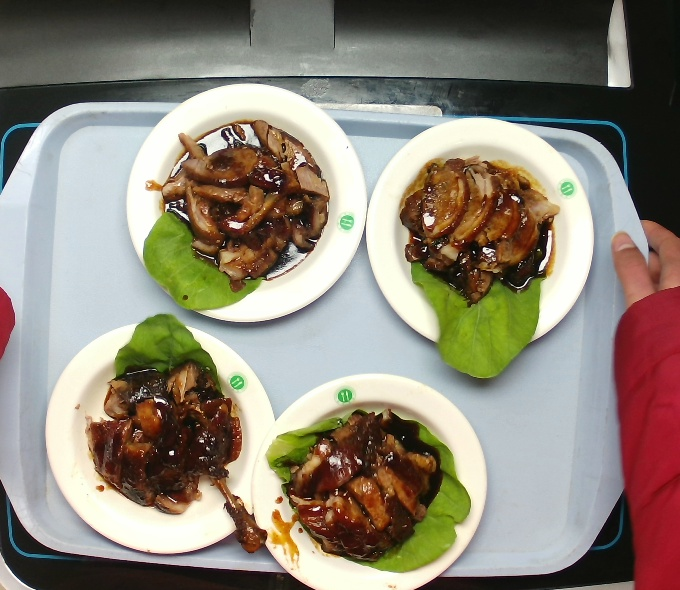wcq-MiZhiYa: (244, 403, 474, 571), (142, 115, 329, 305), (403, 152, 561, 369), (71, 328, 255, 514)
